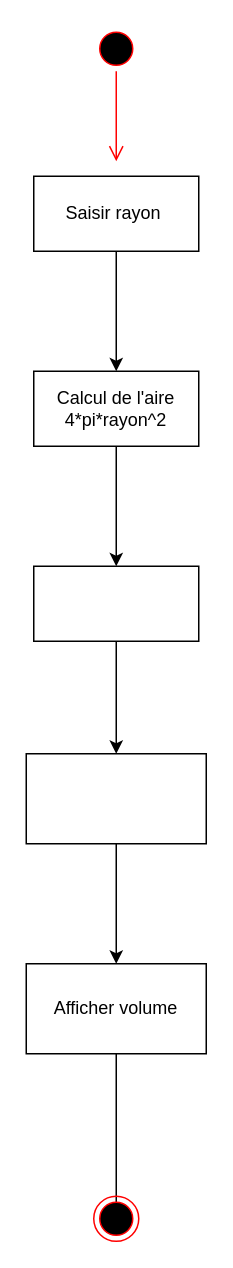
Some shapes in this 233 by 1268 pixel diagram are drawn without their labels. Each missing label, with the centre of its shape:
"Afficher Aire" belongs at pixel 115 798.
"calcul du volume 4/3*PI*rayon^3" belongs at pixel 115 603.
